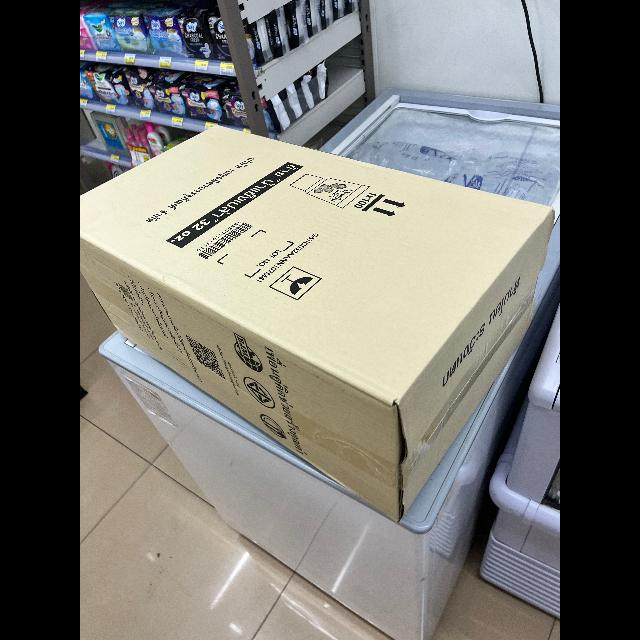cardboard_box: (80, 118, 557, 520)
